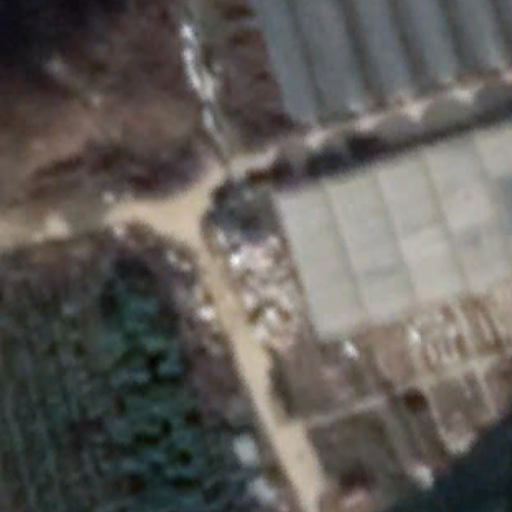msw: (224, 230, 301, 351)
